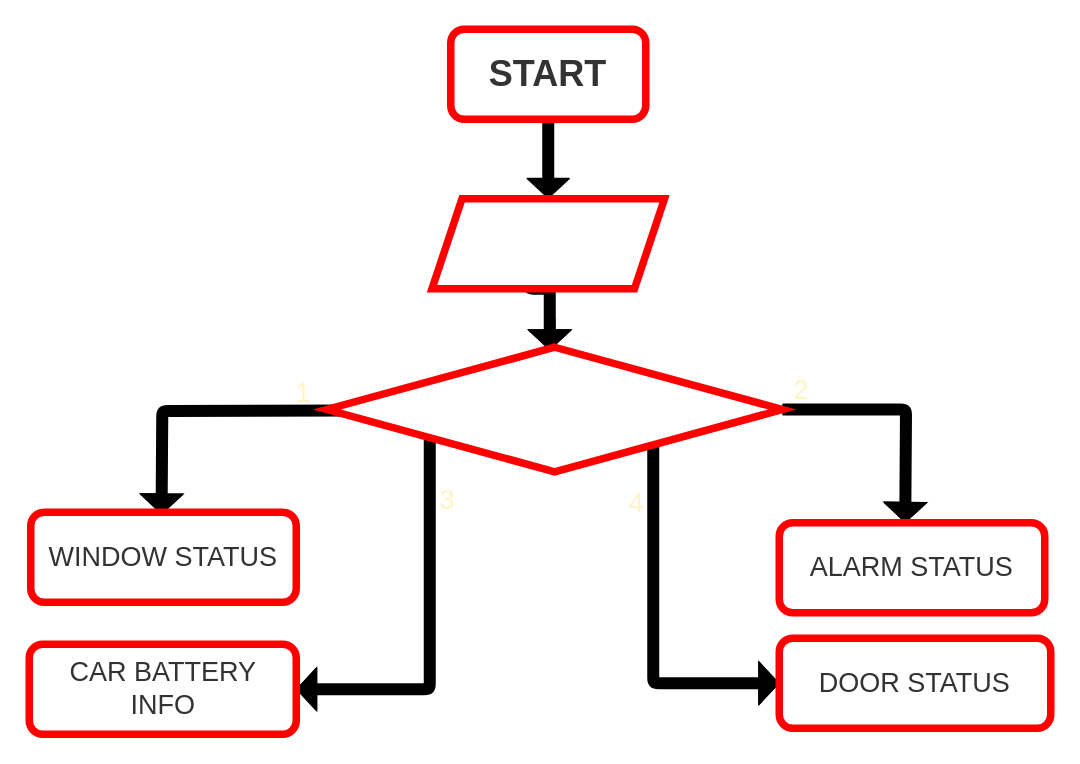
Image size: 1080x764. Some labels were removed from this diagram. The shapes that lost their labels are listed below. From the top down, each one's centre as x and y in pixels, then its label:
[548,243]: User Switch
[553,409]: No of times Clicked
